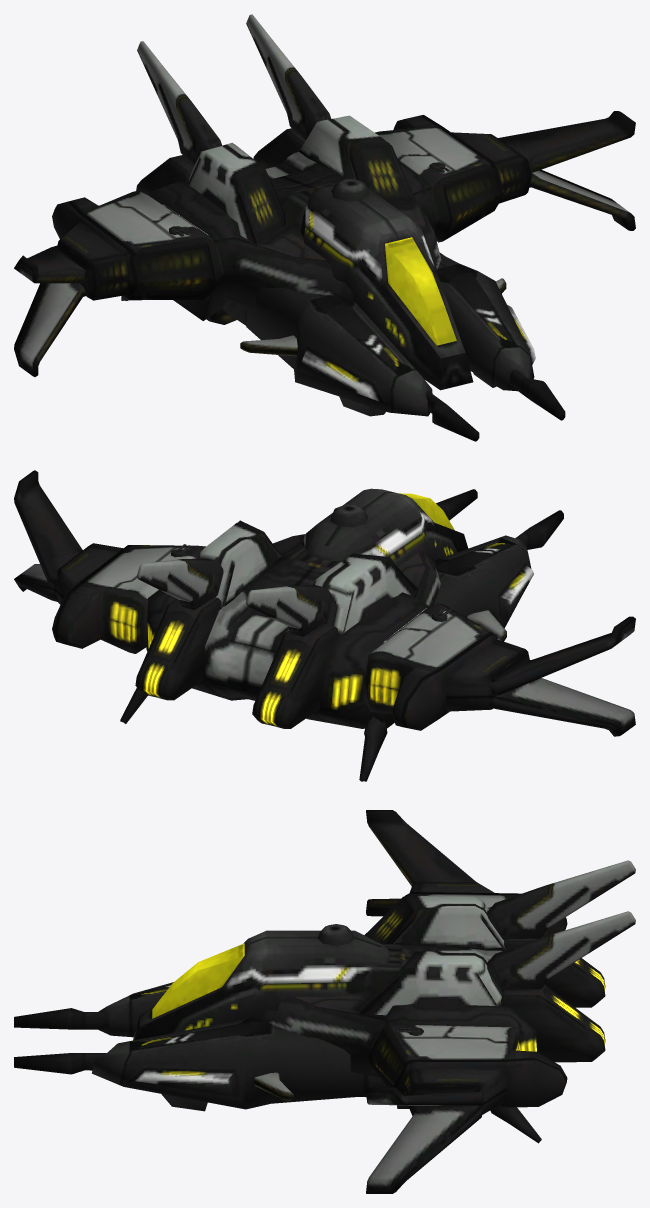
Rendered from UED_shadow's_pacifier_V3.glb.
3 renders of one model, top to bottom at view 1: azimuth 30°, elevation 25°; view 2: azimuth 150°, elevation 25°; view 3: azimuth 270°, elevation 25°, orthographic. The views are drawn at different scales.
Parts seen in each view (by area): view 1: Mesh, Object.001, Object; view 2: Mesh, Object, Object.001; view 3: Mesh, Object.001, Object.
Boxes of the visible parts, <box> form: Mesh: <box>14,14,635,376</box>; Object.001: <box>246,252,565,441</box>; Object: <box>301,179,473,390</box>; Mesh: <box>14,470,635,781</box>; Object: <box>302,488,468,566</box>; Object.001: <box>434,489,563,628</box>; Mesh: <box>250,810,635,1193</box>; Object.001: <box>14,982,369,1111</box>; Object: <box>133,924,390,1040</box>.
Bounding box in the file's own units: 6.3 × 2.1 × 5.88.
Materials: 3 (3 with a texture image).
